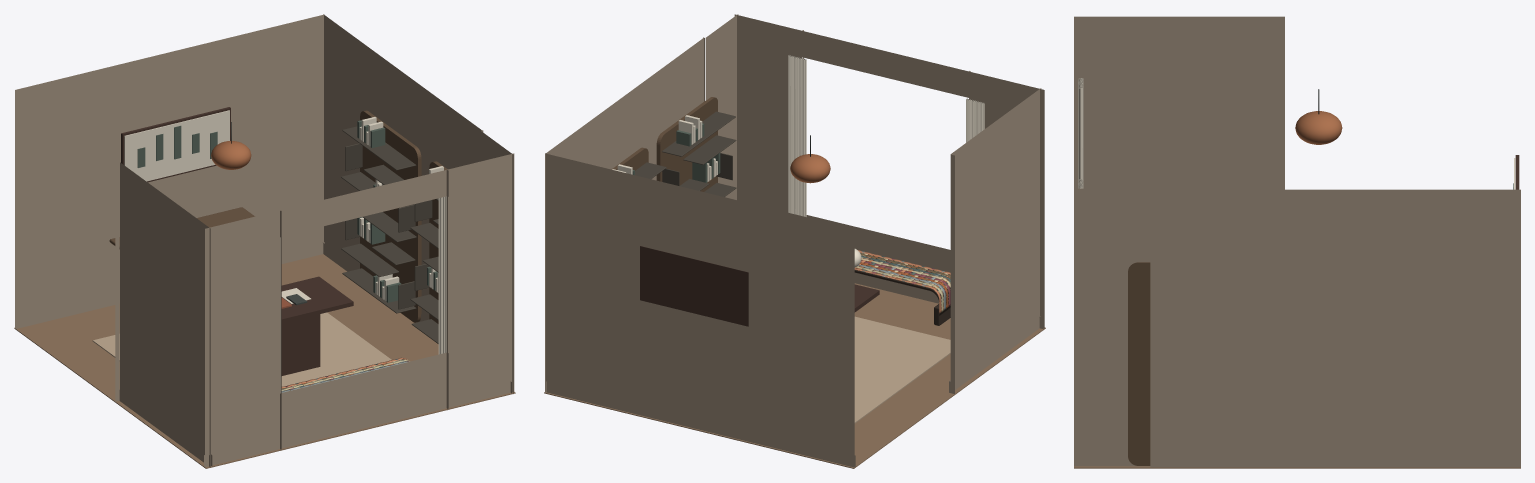
File: formal-1.glb
3 renders of one model, left to right at view 1: azimuth 30°, elevation 25°; view 2: azimuth 150°, elevation 25°; view 3: azimuth 270°, elevation 25°, orthographic. The views are drawn at different scales.
Visible parts, largest first — view 1: DESIGN | formal removable wall finish, DESIGN | formal floor finish, DESIGN | Required Blabla bookcase 2, DESIGN | Textile artwork, DESIGN | Formal ground, DESIGN | Required Blabla bookcase 1, DESIGN | Working desk trestle, DESIGN | Working desk top, DESIGN | Formal soft window edge.001, DESIGN | Atelier pendant shade, DESIGN | Required Brera anniversary window bench, DESIGN | Quiet artwork frame (+1 smaller); view 2: DESIGN | formal removable wall finish, DESIGN | formal floor finish, DESIGN | Quiet artwork frame, DESIGN | Formal ground, DESIGN | Required Blabla bookcase 1, DESIGN | Formal soft window edge.001, DESIGN | Required Brera anniversary window bench, DESIGN | Atelier pendant shade, DESIGN | Required Blabla bookcase 2, DESIGN | Formal soft window edge; view 3: DESIGN | formal removable wall finish, DESIGN | Required Blabla bookcase 1, DESIGN | Atelier pendant shade, DESIGN | formal floor finish, DESIGN | Formal soft window edge.
Part boxes in pixels (x1,y1,x2,y2): DESIGN | formal removable wall finish: [15, 14, 514, 466]; DESIGN | formal floor finish: [14, 254, 515, 468]; DESIGN | Required Blabla bookcase 2: [341, 110, 421, 322]; DESIGN | Textile artwork: [124, 110, 229, 181]; DESIGN | Formal ground: [92, 312, 391, 386]; DESIGN | Required Blabla bookcase 1: [410, 161, 447, 343]; DESIGN | Working desk trestle: [281, 314, 320, 375]; DESIGN | Working desk top: [281, 276, 353, 323]; DESIGN | Formal soft window edge.001: [438, 196, 446, 354]; DESIGN | Atelier pendant shade: [211, 141, 251, 169]; DESIGN | Required Brera anniversary window bench: [281, 357, 409, 392]; DESIGN | Quiet artwork frame: [121, 107, 230, 182]; DESIGN | formal removable wall finish: [545, 14, 1044, 467]; DESIGN | formal floor finish: [544, 283, 1045, 468]; DESIGN | Quiet artwork frame: [640, 246, 748, 326]; DESIGN | Formal ground: [854, 316, 950, 423]; DESIGN | Required Blabla bookcase 1: [656, 97, 736, 196]; DESIGN | Formal soft window edge.001: [788, 55, 806, 216]; DESIGN | Required Brera anniversary window bench: [854, 250, 950, 325]; DESIGN | Atelier pendant shade: [790, 154, 830, 183]; DESIGN | Required Blabla bookcase 2: [611, 147, 666, 178]; DESIGN | Formal soft window edge: [966, 98, 984, 142]; DESIGN | formal removable wall finish: [1074, 16, 1520, 467]; DESIGN | Required Blabla bookcase 1: [1128, 262, 1150, 465]; DESIGN | Atelier pendant shade: [1295, 111, 1342, 144]; DESIGN | formal floor finish: [1074, 466, 1520, 468]; DESIGN | Formal soft window edge: [1078, 78, 1083, 181].
Bounding box in the file's own units: 3.71 × 2.74 × 3.98.
